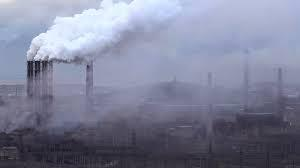smoke: (0, 79, 300, 152), (20, 0, 181, 74)
